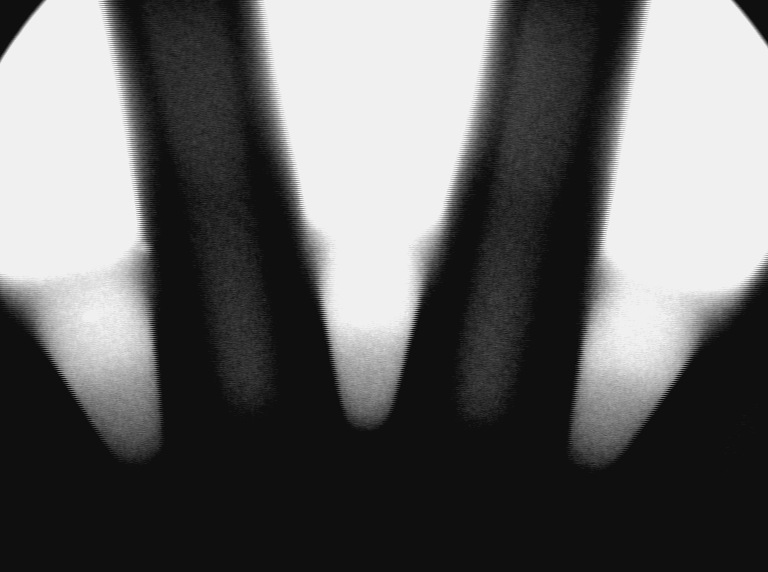defect: (81, 304, 105, 328)
